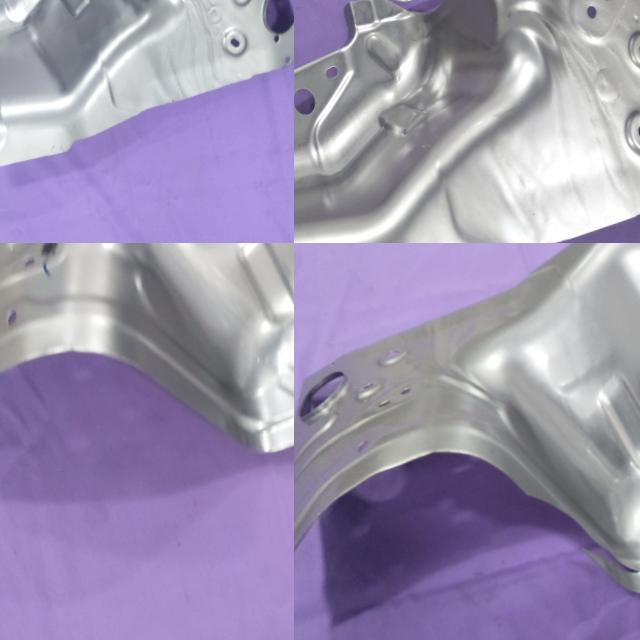Defect: (528, 490, 640, 573), (350, 0, 476, 40)
Healthy: (0, 243, 294, 527)
